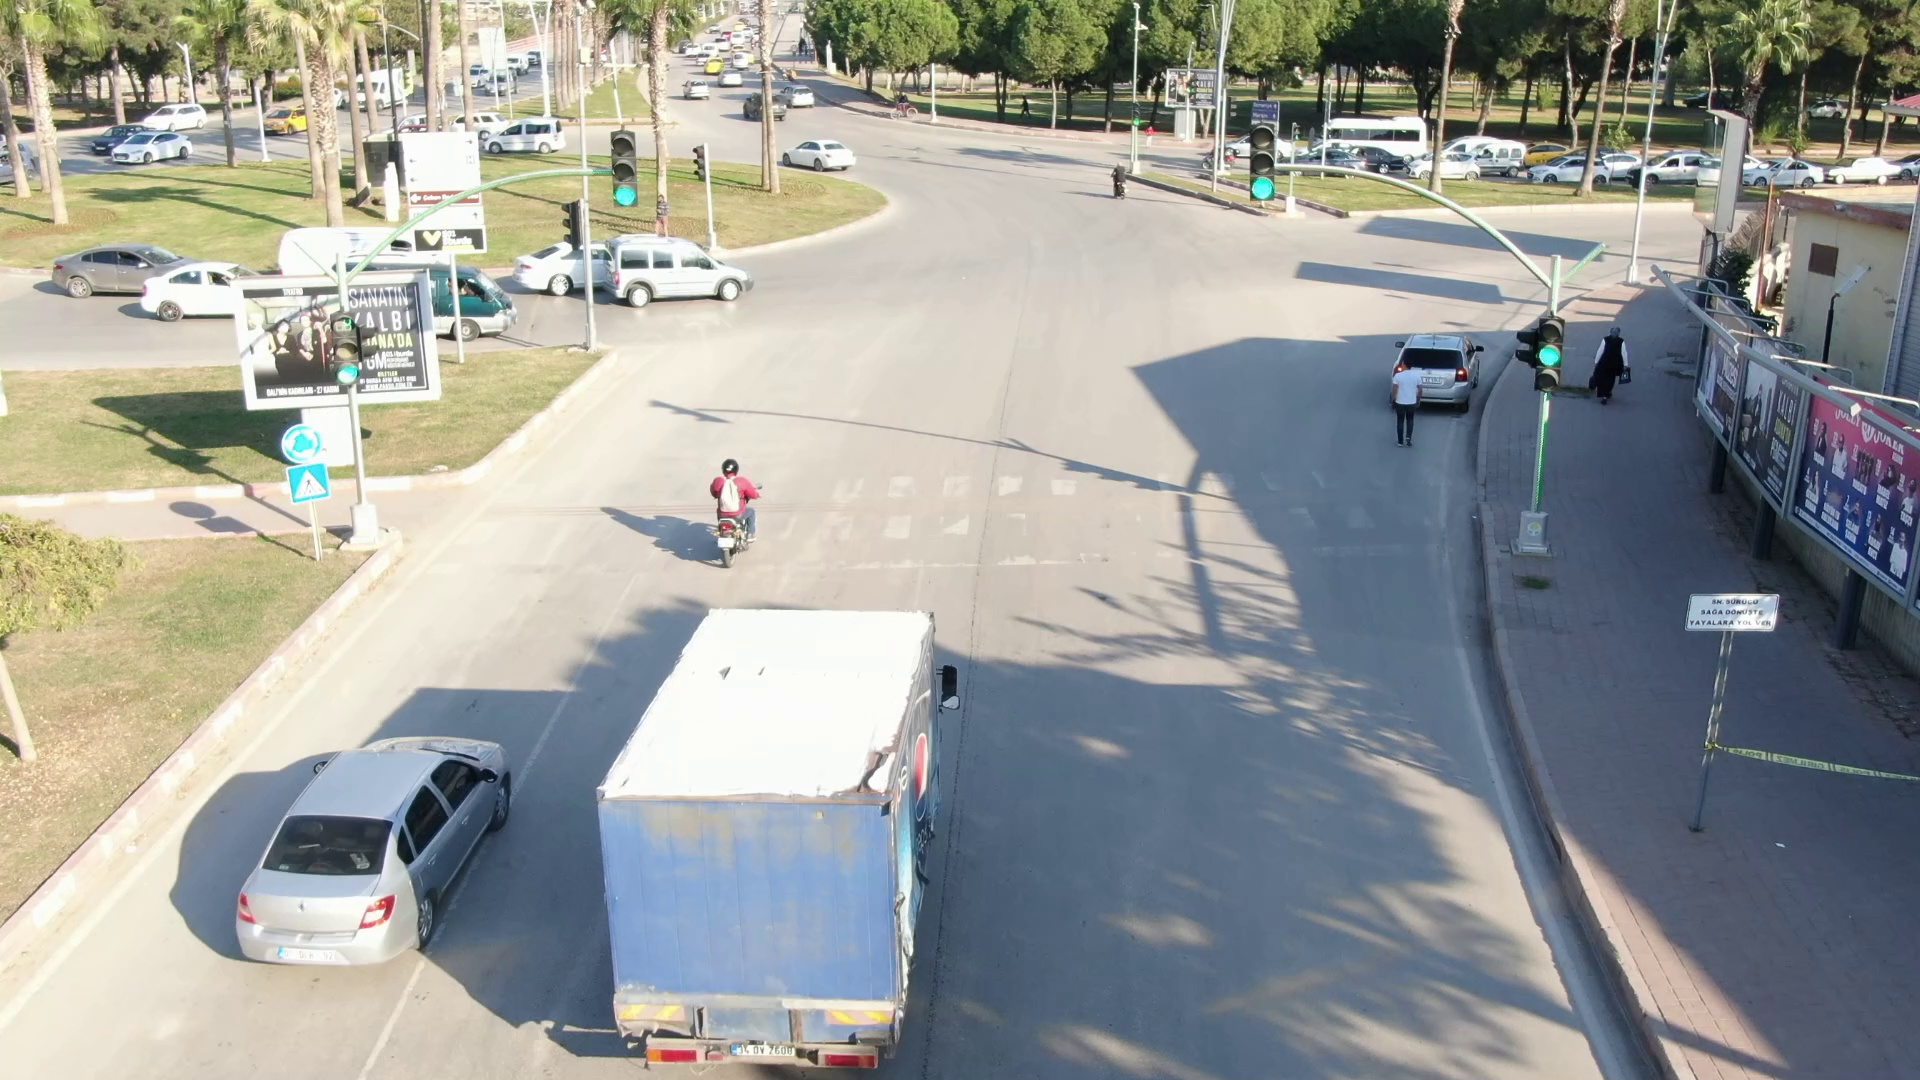car: (213, 686, 544, 966), (601, 228, 777, 312), (51, 238, 217, 309), (109, 124, 210, 168), (480, 113, 577, 157), (779, 128, 864, 178), (1524, 150, 1617, 188), (137, 97, 214, 134), (673, 75, 713, 102)
person: (703, 448, 769, 545), (1582, 312, 1642, 419), (1379, 347, 1432, 455)
